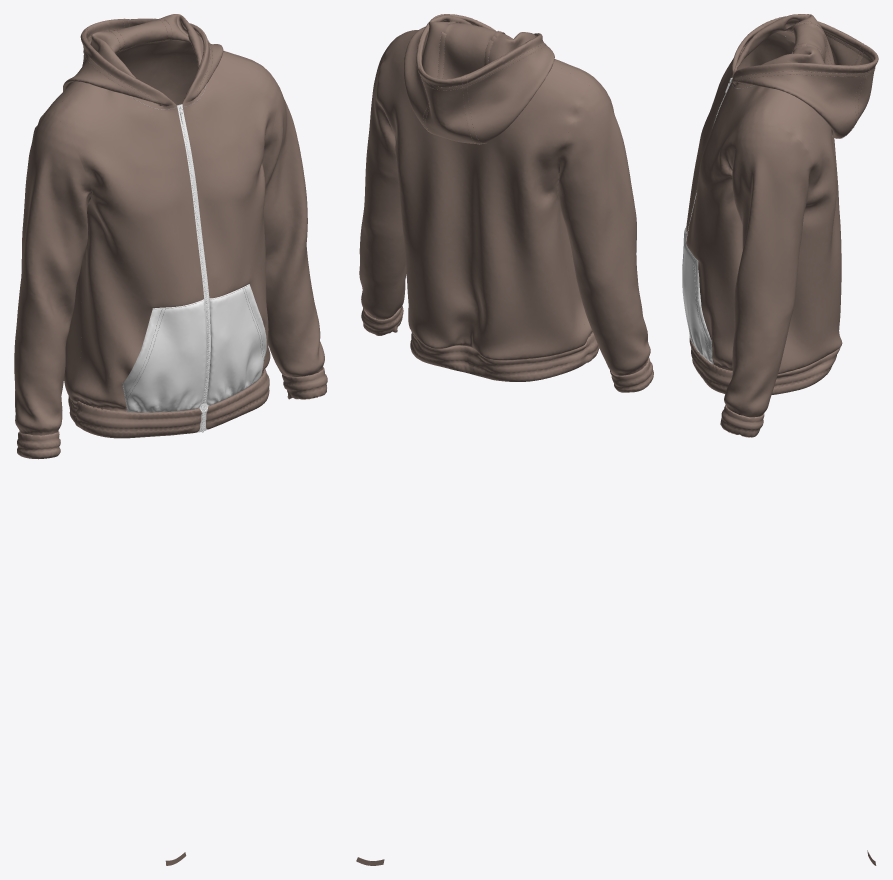
The model's file is hoodie_regular_zipup_self.glb.
3 renders of one model, left to right at view 1: azimuth 30°, elevation 25°; view 2: azimuth 150°, elevation 25°; view 3: azimuth 270°, elevation 25°, orthographic. The views are drawn at different scales.
Parts seen in each view (by area): view 1: Pattern_8630, Pattern_14259, Pattern_8631, Pattern_14260, Pattern_12340, Pattern_12341, Pattern_10975, Pattern_11393556, Pattern_106132, Pattern_106131, Pattern_11393555, Pattern_11393554 (+6 smaller); view 2: Pattern_10975, Pattern_14259, Pattern_14260, Pattern_106132, Pattern_106150, Pattern_11393557, Pattern_106131, Pattern_11393554, Pattern_8630, Pattern_11393553; view 3: Pattern_14260, Pattern_8631, Pattern_10975, Pattern_106131, Pattern_106132, Pattern_12341, Pattern_106150, Pattern_11393557, Pattern_8630, Pattern_14259, Pattern_11393555, Pattern_11393553 (+1 smaller).
Boxes of the visible parts, x1,y1,x2,y2 form: Pattern_8630: [52, 82, 203, 412]; Pattern_14259: [14, 113, 91, 435]; Pattern_8631: [182, 51, 276, 377]; Pattern_14260: [262, 69, 324, 376]; Pattern_12340: [122, 299, 206, 412]; Pattern_12341: [206, 284, 266, 405]; Pattern_10975: [36, 40, 228, 401]; Pattern_11393556: [75, 401, 201, 438]; Pattern_106132: [63, 30, 174, 106]; Pattern_106131: [128, 14, 223, 102]; Pattern_11393555: [206, 369, 269, 429]; Pattern_11393554: [17, 431, 60, 459]; Pattern_10975: [377, 34, 589, 360]; Pattern_14259: [558, 82, 650, 375]; Pattern_14260: [359, 41, 406, 319]; Pattern_106132: [464, 32, 554, 143]; Pattern_106150: [419, 22, 496, 144]; Pattern_11393557: [410, 331, 588, 381]; Pattern_106131: [404, 14, 495, 131]; Pattern_11393554: [610, 357, 653, 392]; Pattern_8630: [553, 59, 600, 336]; Pattern_11393553: [361, 306, 403, 335]; Pattern_14260: [724, 125, 813, 417]; Pattern_8631: [686, 79, 781, 370]; Pattern_10975: [776, 31, 842, 374]; Pattern_106131: [732, 44, 868, 138]; Pattern_106132: [732, 14, 863, 73]; Pattern_12341: [682, 239, 713, 364]; Pattern_106150: [793, 23, 878, 130]; Pattern_11393557: [771, 347, 840, 394]; Pattern_8630: [686, 46, 757, 235]; Pattern_14259: [732, 32, 794, 77]; Pattern_11393555: [690, 340, 732, 393]; Pattern_11393553: [720, 404, 764, 437].
Size of the model in its own units: 0.6004 by 1.67 by 0.3715.
